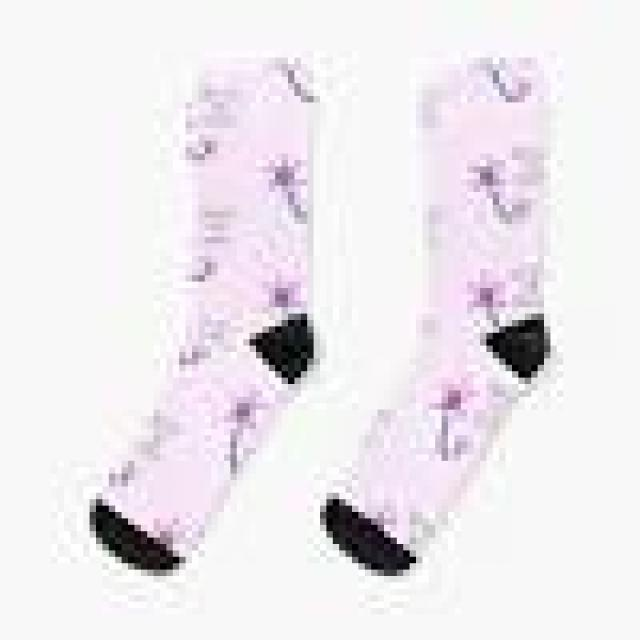Clothes -Biodegradable-: (317, 47, 565, 570), (84, 54, 321, 570)
